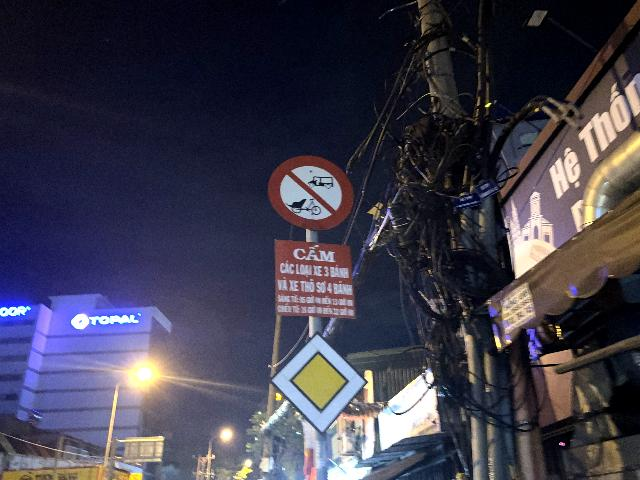bat-dau-duong-uu-tien: (270, 330, 369, 435)
cam-xe-3-banh-xe-tho-so-4-banh: (267, 155, 354, 230)
